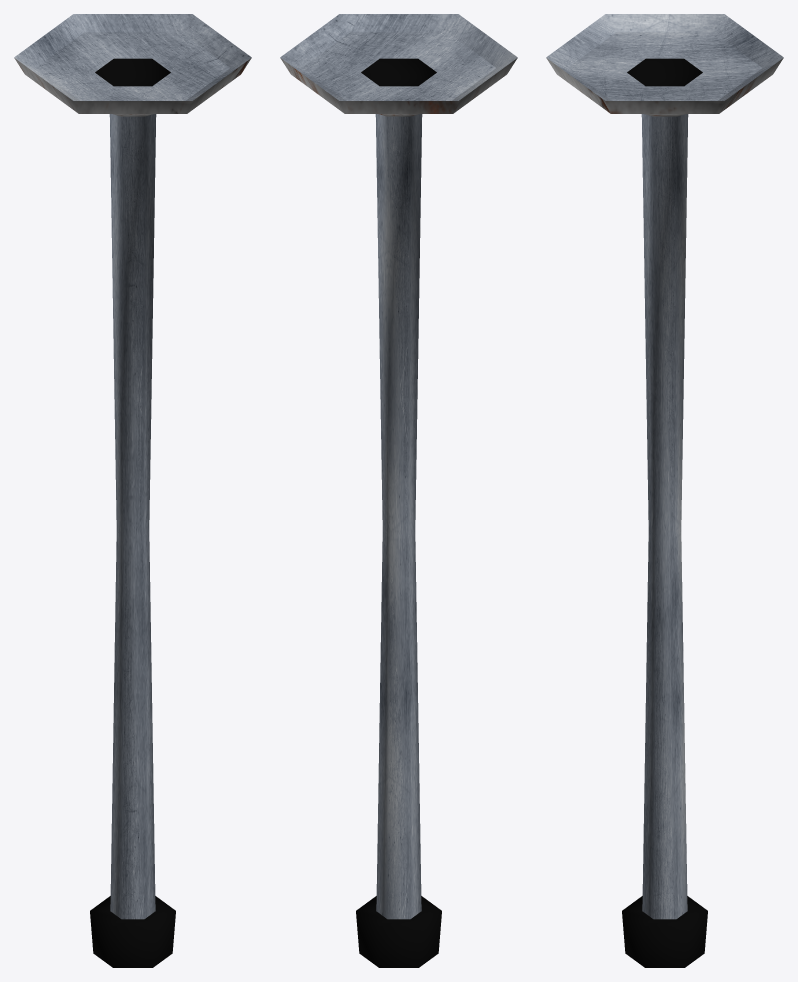
Rendered from torch_stand.glb.
The picture shows the model from 3 angles, left to right: view 1: azimuth 30°, elevation 25°; view 2: azimuth 150°, elevation 25°; view 3: azimuth 270°, elevation 25°; orthographic projection.
Parts seen in each view (by area): view 1: Cylinder.001; view 2: Cylinder.001; view 3: Cylinder.001.
Part boxes in pixels (left/top/right/bottom): Cylinder.001: left=14, top=14, right=251, bottom=967; Cylinder.001: left=280, top=14, right=517, bottom=967; Cylinder.001: left=546, top=14, right=783, bottom=967.
Size of the model in its own units: 0.221 by 1.06 by 0.2552.
3 materials, 2 textured.
